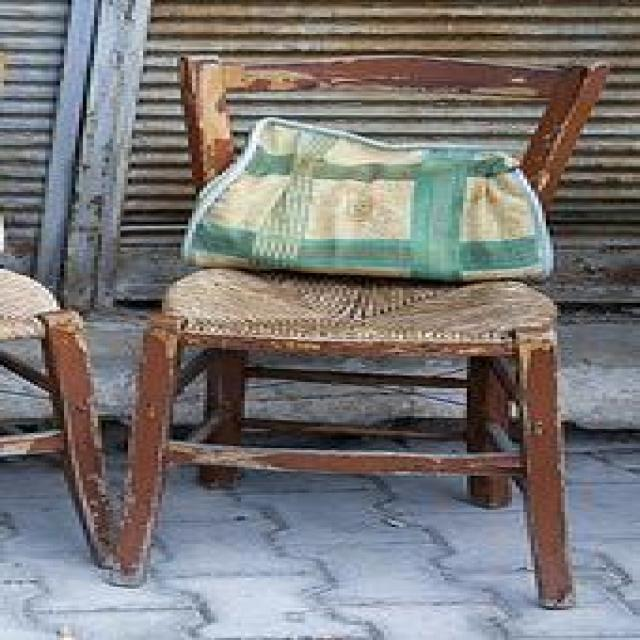chair: (106, 51, 606, 608)
